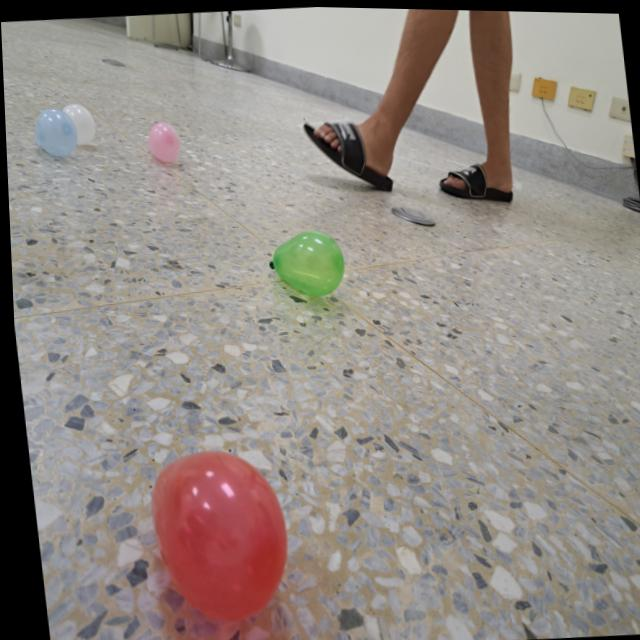other: (261, 225, 345, 299), (31, 104, 76, 160), (59, 102, 95, 148), (144, 119, 180, 164)
red: (138, 439, 291, 622)
